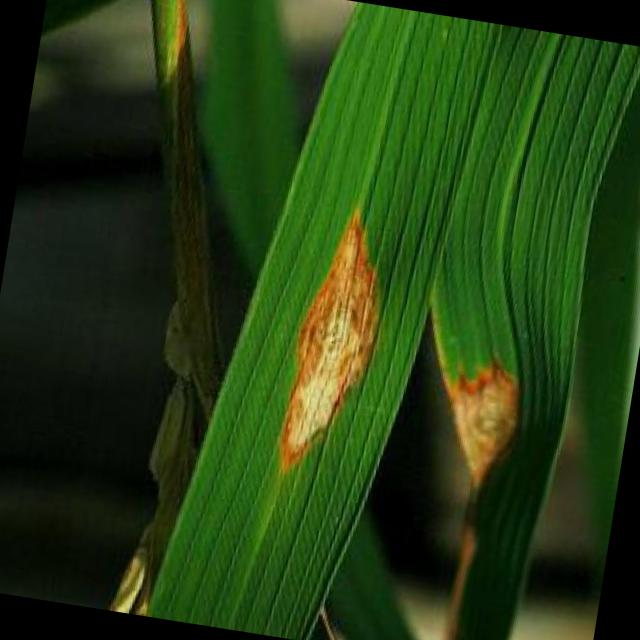Rice_Blast: (233, 178, 406, 505), (408, 346, 566, 513)
